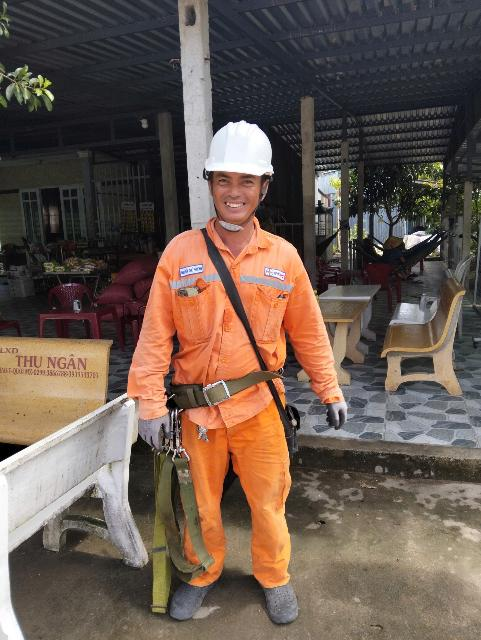gloves: (133, 400, 186, 457), (327, 391, 351, 433)
harness: (146, 365, 308, 408)
helmet: (194, 116, 286, 181)
shoes: (162, 562, 222, 624), (246, 571, 311, 626)
